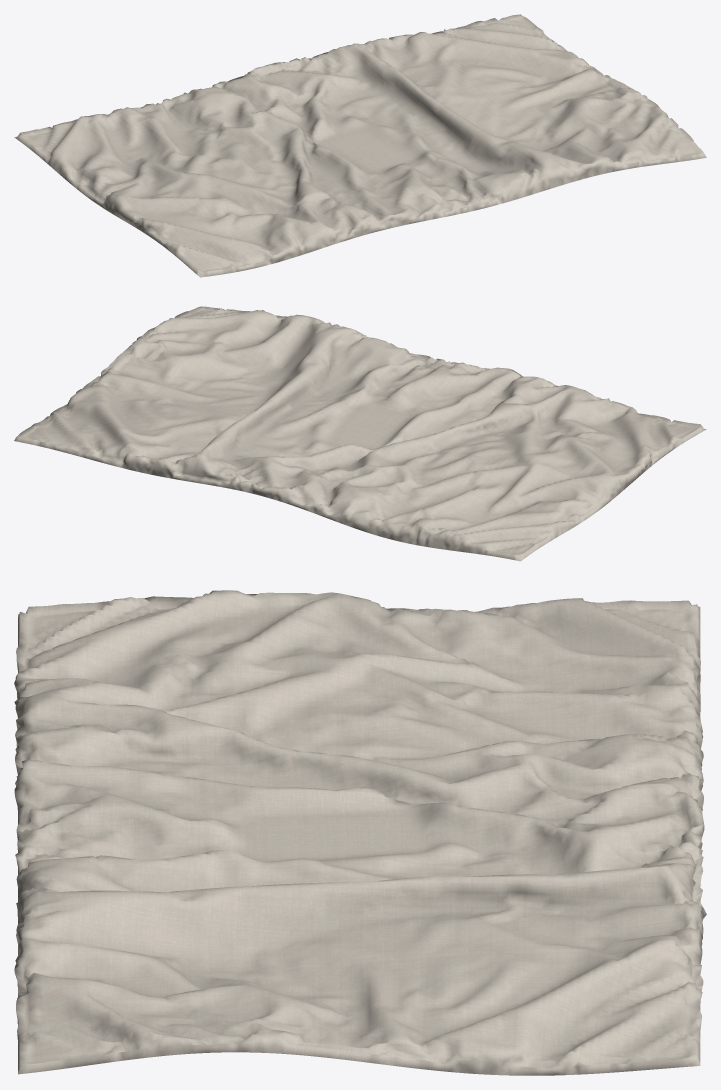
The model's file is sheet.glb.
3 views of the same model, one above another, from view 1: azimuth 30°, elevation 25°; view 2: azimuth 150°, elevation 25°; view 3: azimuth 270°, elevation 25° (orthographic). The views are drawn at different scales.
Visible parts, largest first — view 1: sheet; view 2: sheet; view 3: sheet.
Part boxes in pixels (x1=…): sheet: x1=14, y1=14, x2=706, y2=277; sheet: x1=14, y1=306, x2=706, y2=561; sheet: x1=14, y1=590, x2=706, y2=1075.
Bounding box in the file's own units: 0.6654 × 0.0366 × 0.4265.
Materials: 1 (1 with a texture image).
